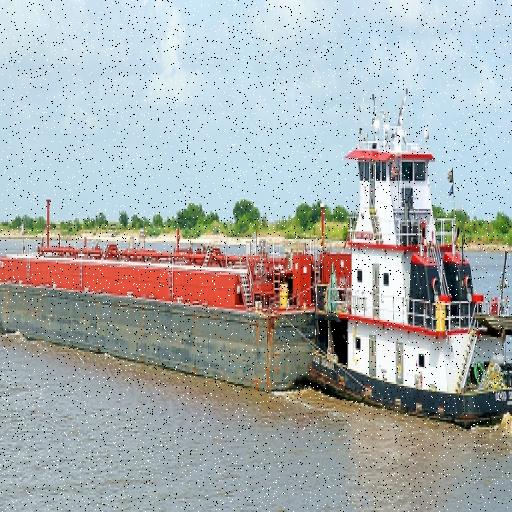tugboat: (307, 108, 512, 441)
